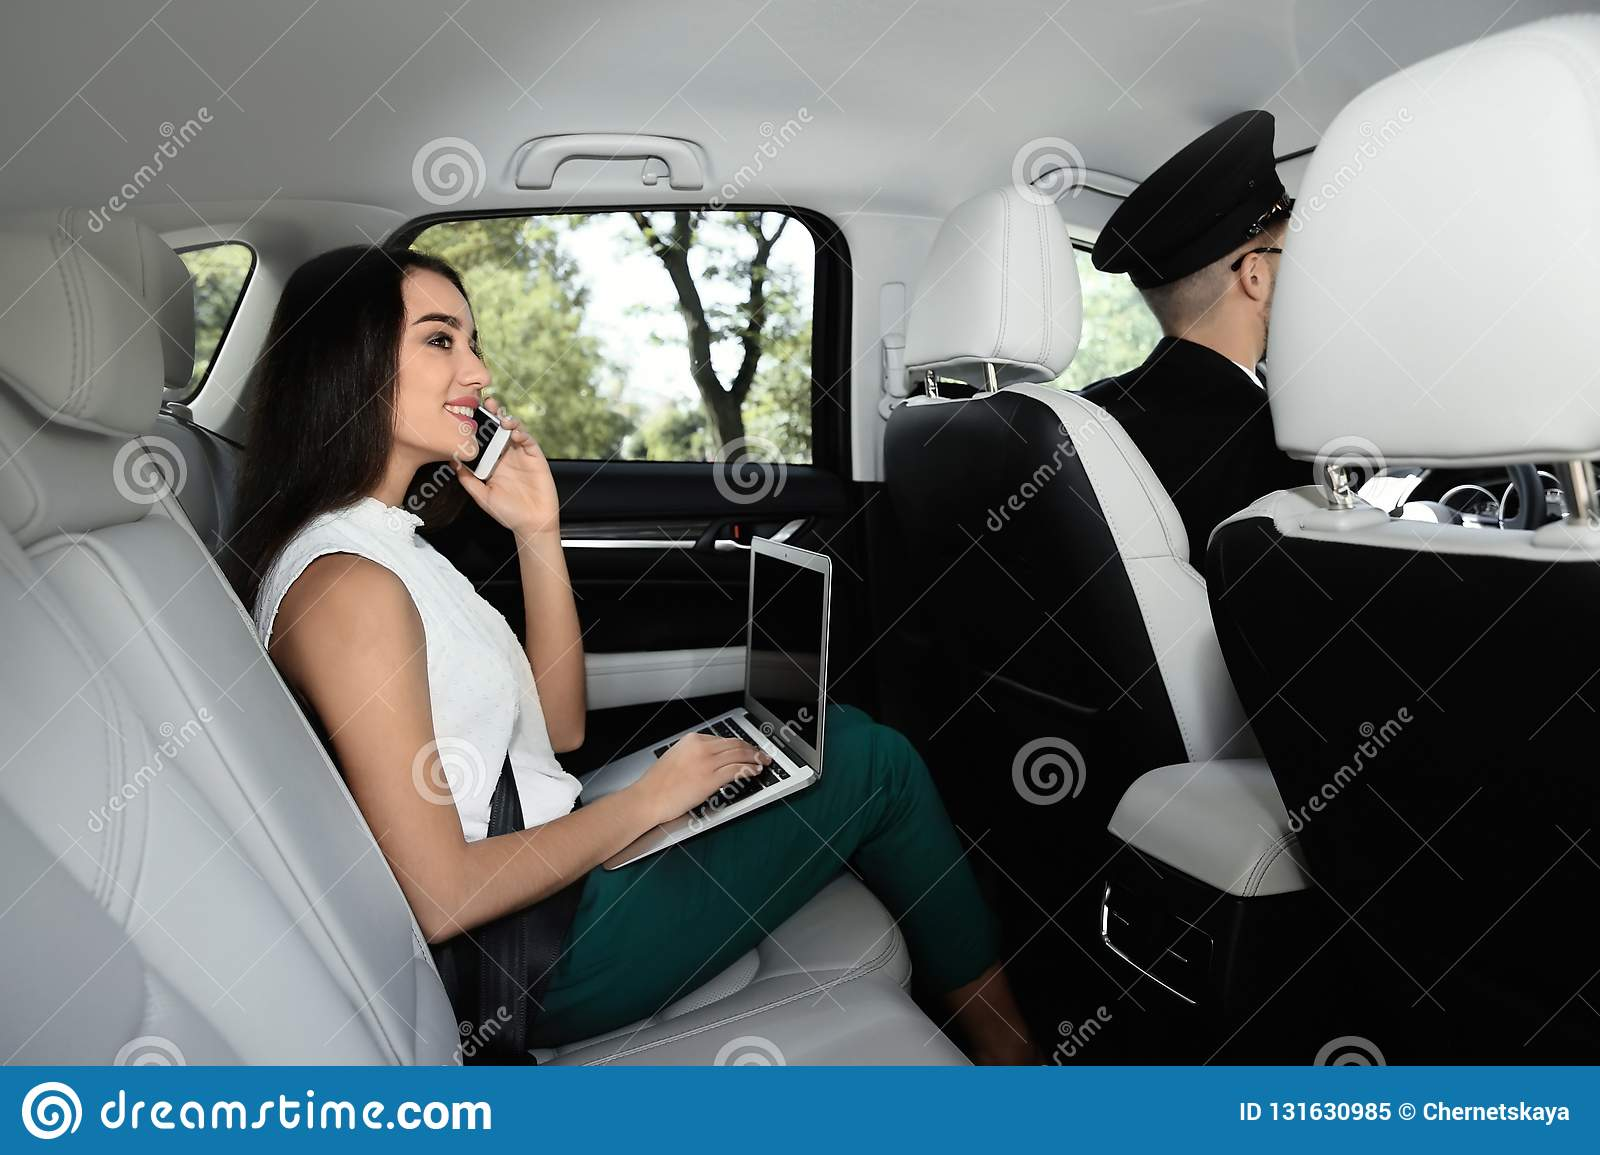phone: (458, 409, 520, 487)
talk: (412, 303, 560, 537)
